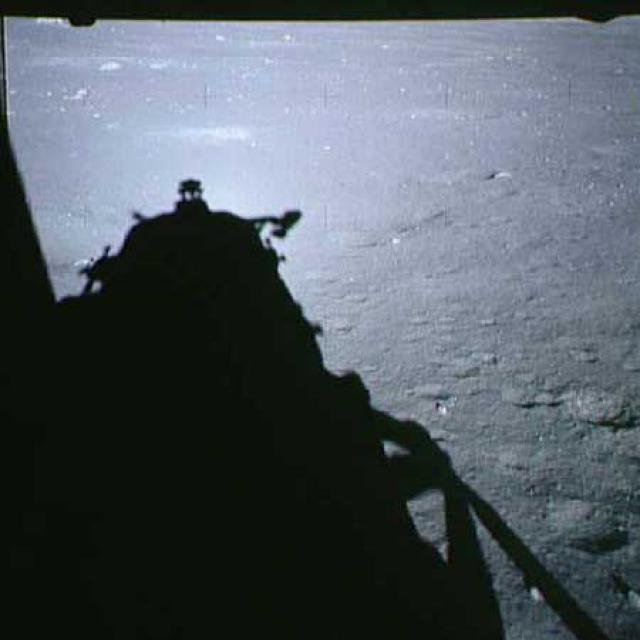crater: (537, 493, 631, 564), (555, 376, 639, 437)
